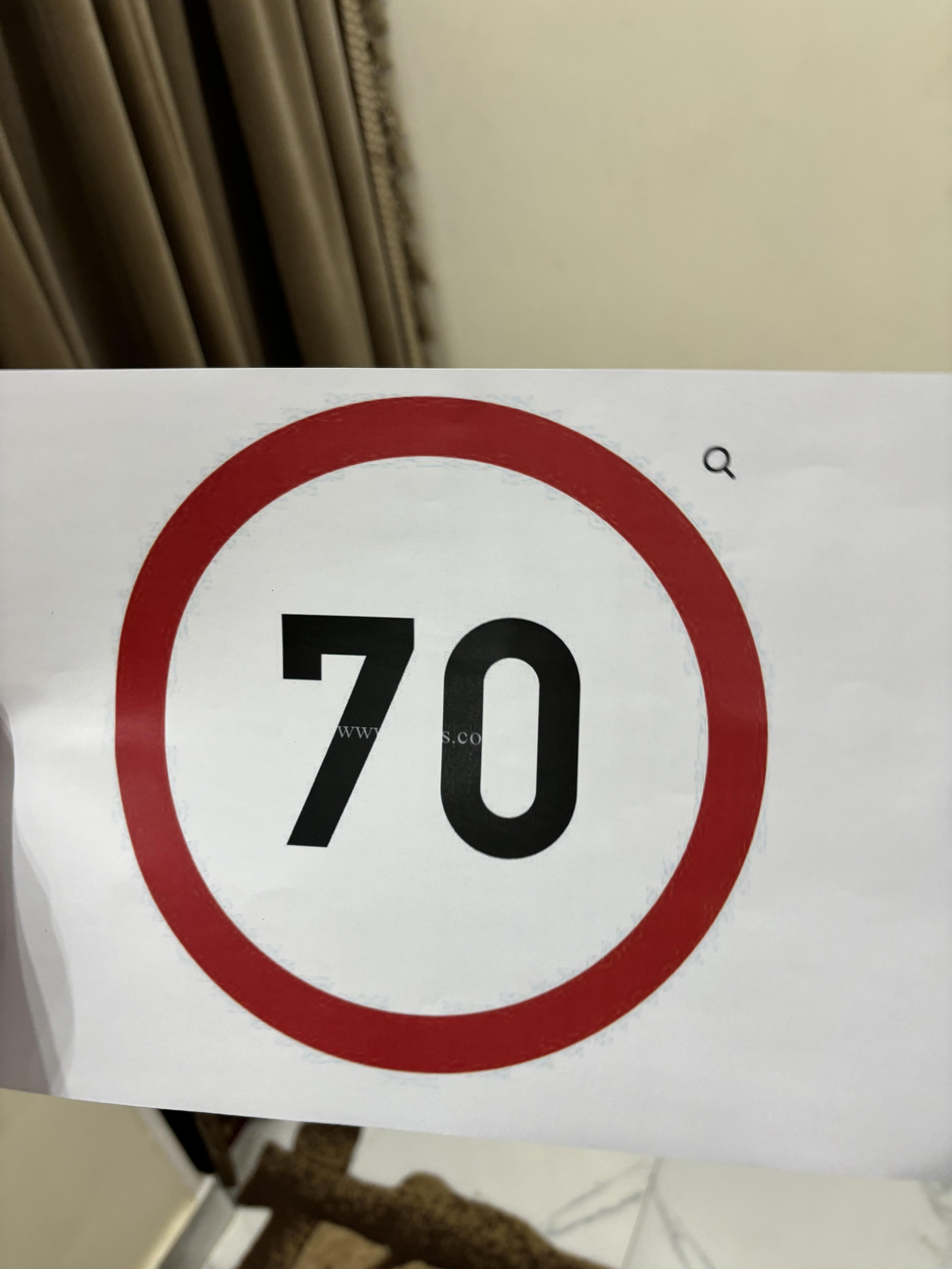70-Speed: (113, 391, 774, 1077)
